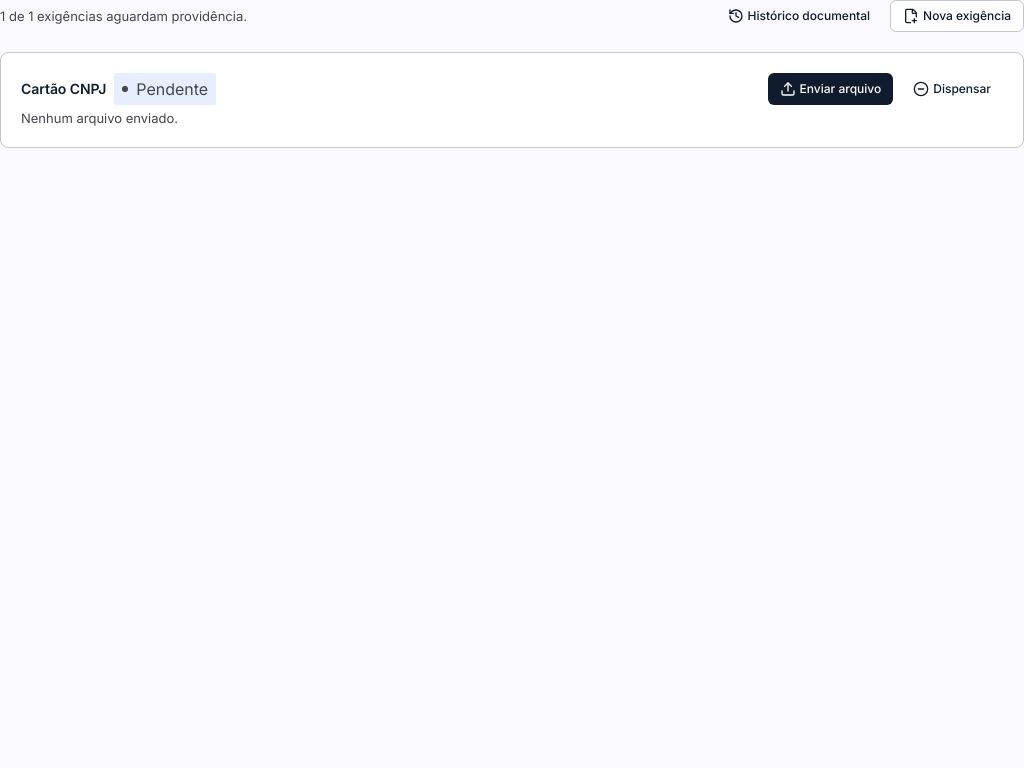
envio de arquivo (§2.3) › informa formatos e limite antes de escolher o arquivo
Step 1. Click the button "Enviar arquivo" → (830, 89), box [768,73,893,105]
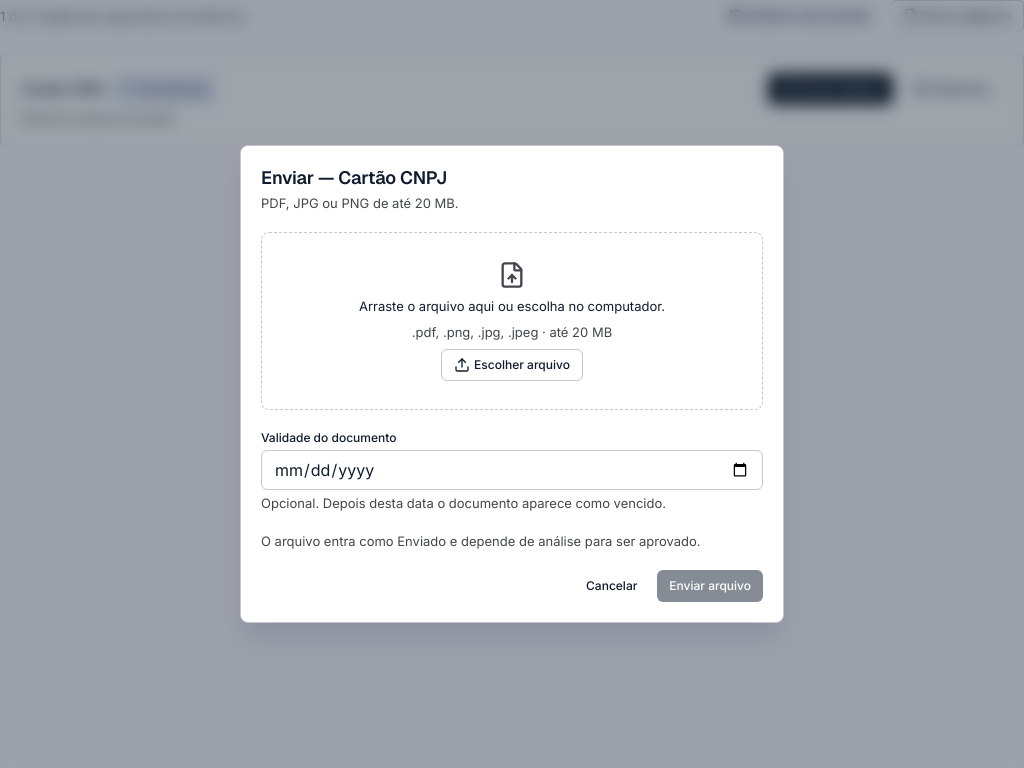
Check: the dialog shows "PDF, JPG ou PNG de até 20 MB", box [261,195,459,211]
Check: the dialog shows "depende de análise", box [261,533,701,549]
